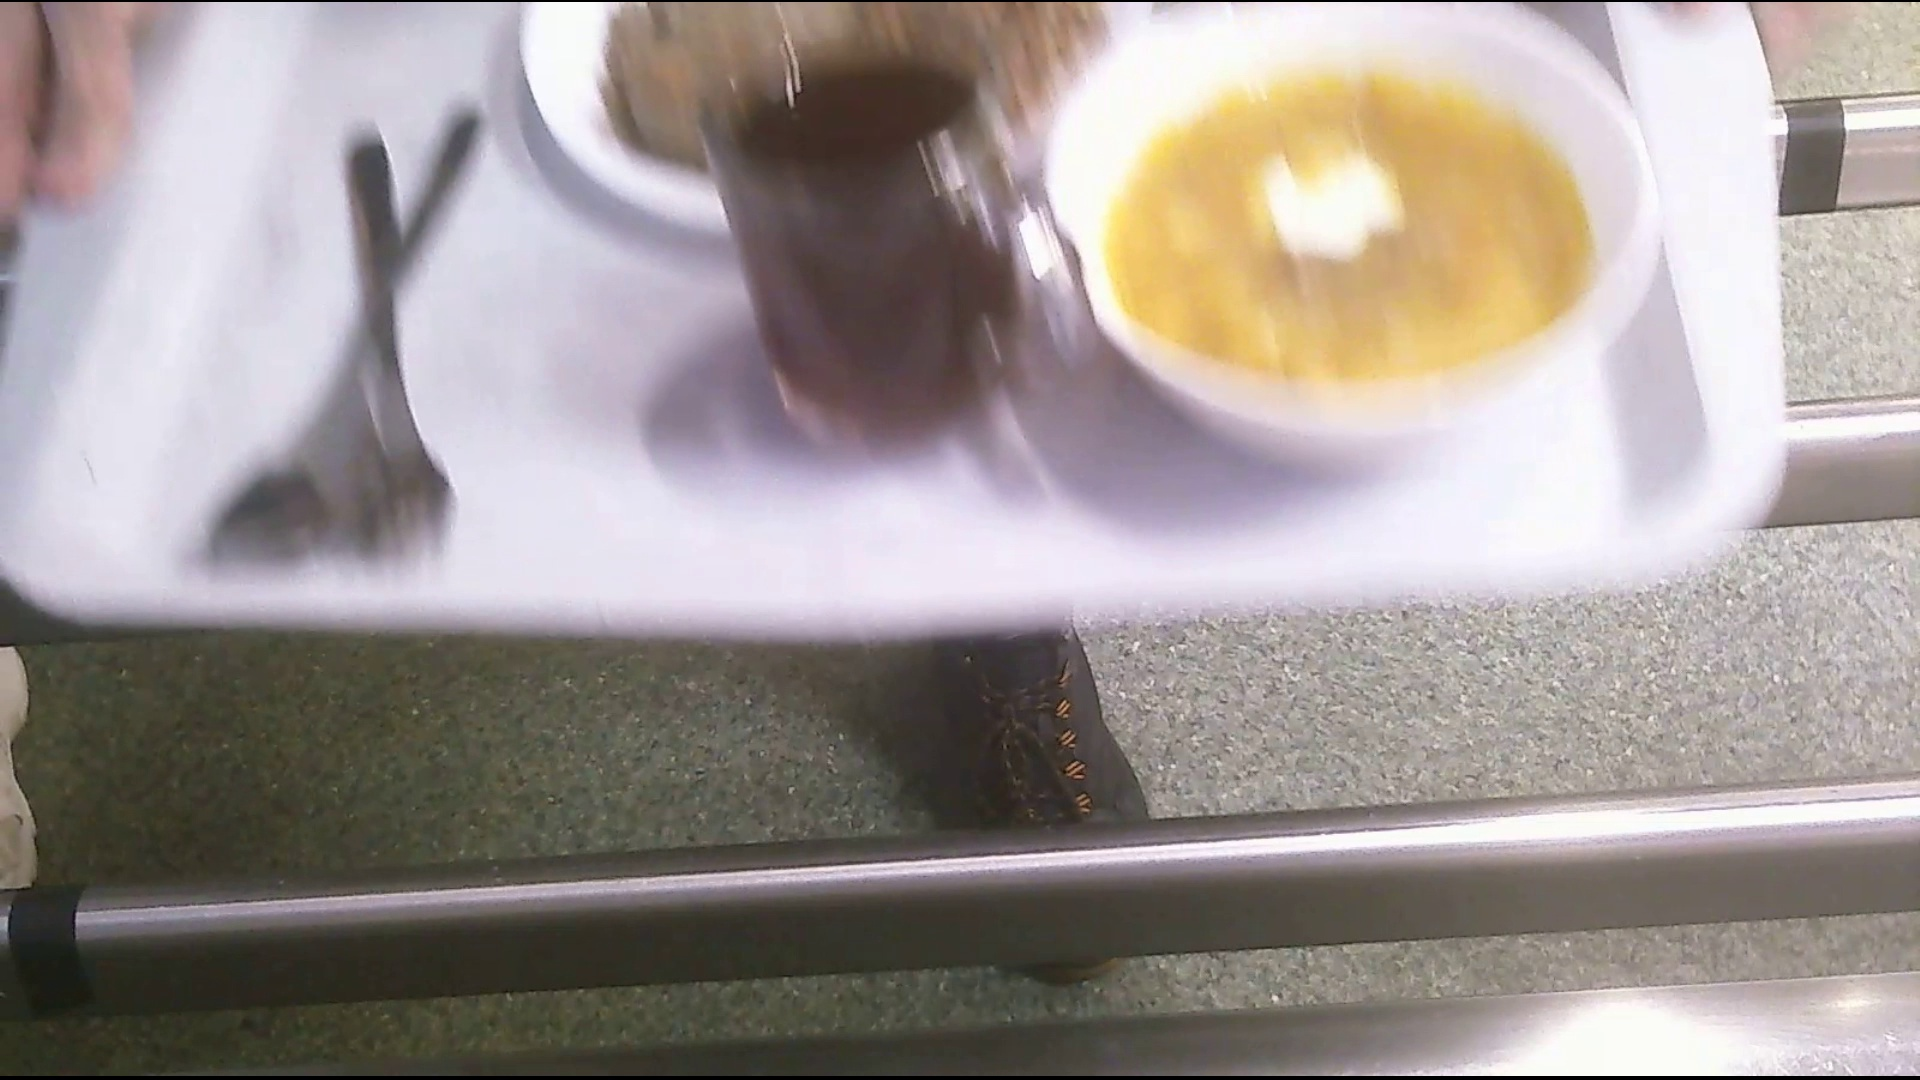bowl: (1052, 15, 1662, 446)
cutlery: (323, 123, 469, 570)
drink: (704, 47, 1065, 459)
